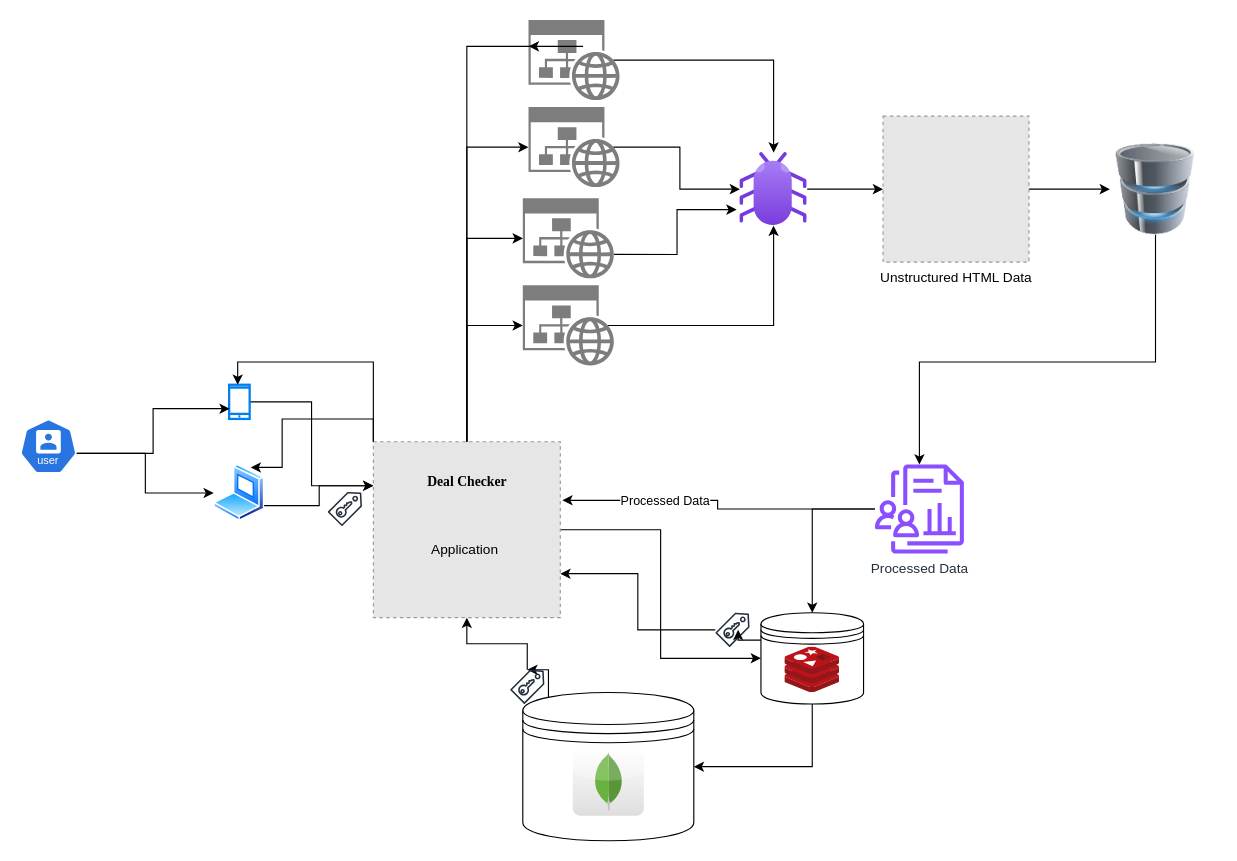
Image size: 1237x861. Some labels were removed from this diagram. Grey dashed boxes stand in for pictures. The centre of each missing label's shape, as x and y in pixels:
"Extracted Web Data" belongs at (1155,188).
"Web Scraper" belongs at (773,188).
